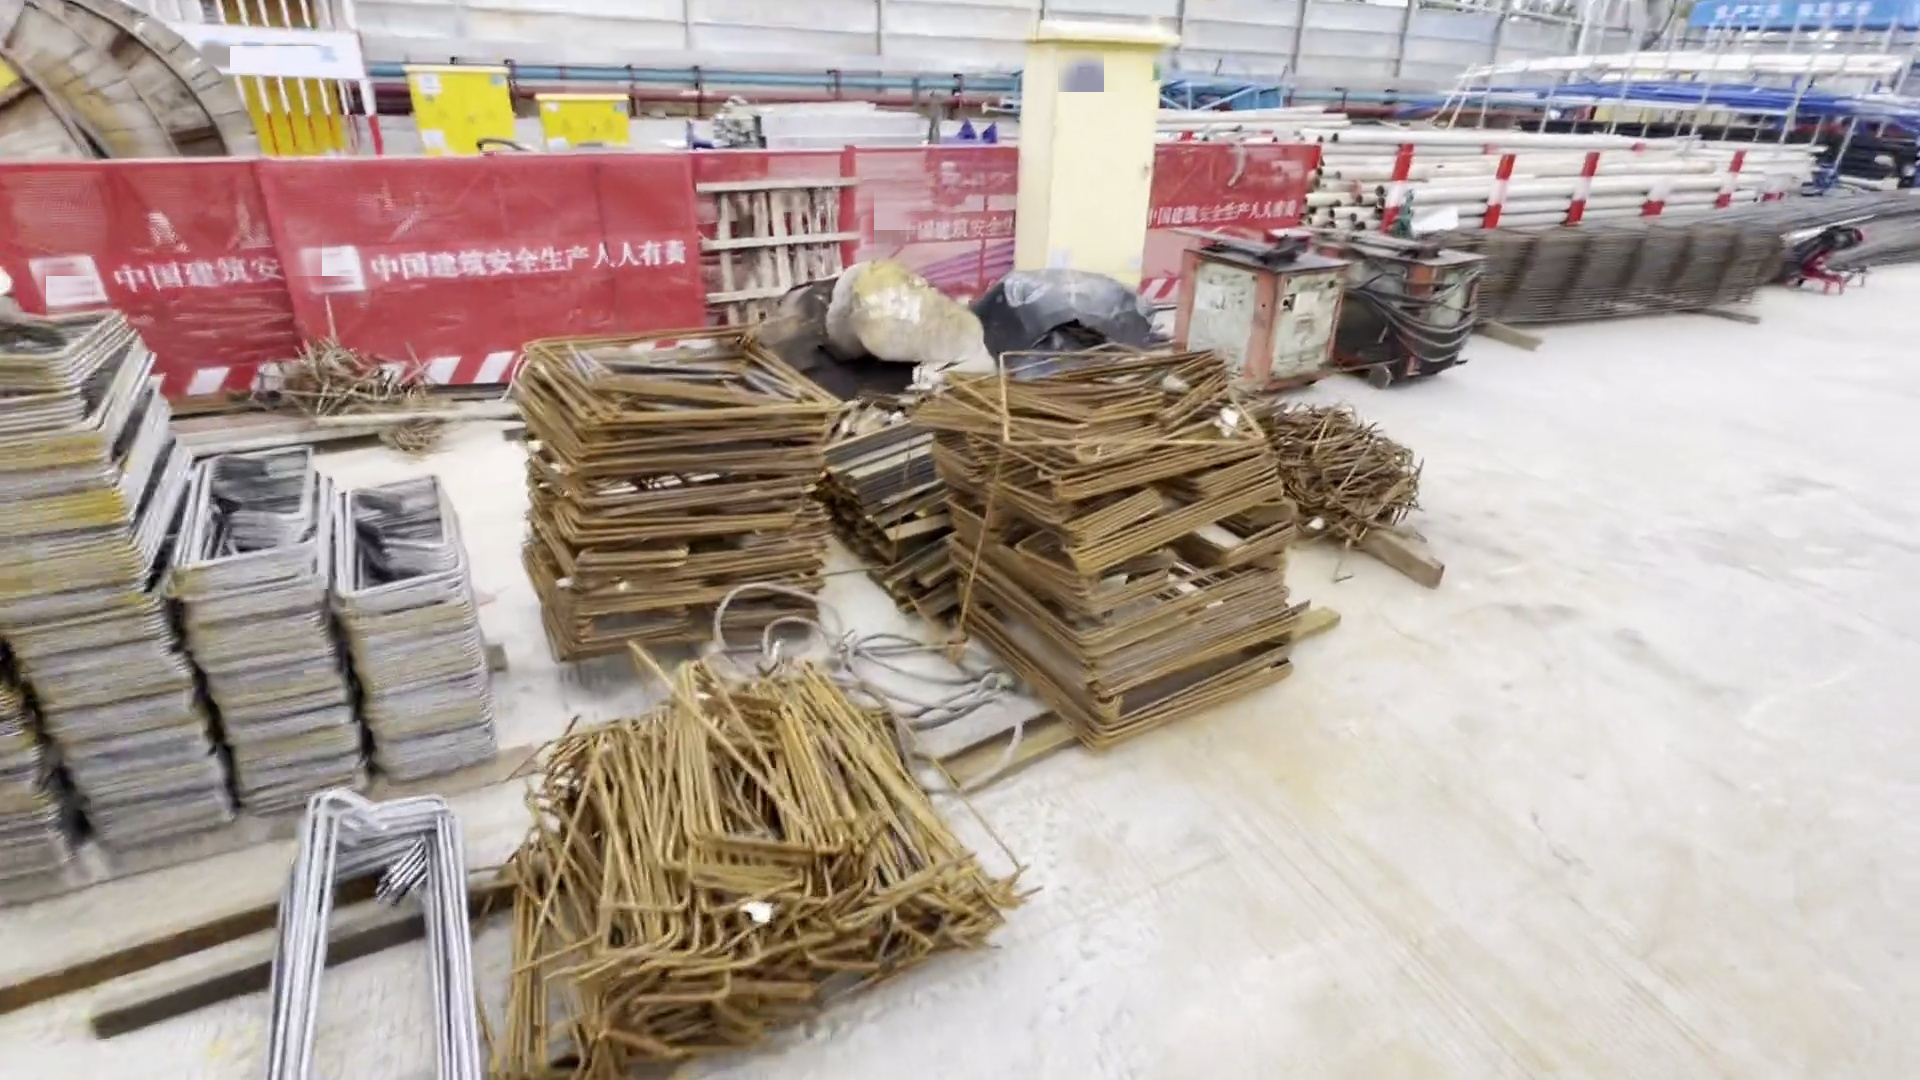cutter: (1787, 216, 1873, 314)
ebox: (1001, 24, 1163, 302), (400, 55, 520, 156), (531, 88, 645, 145)
fence: (1, 146, 1011, 400), (1143, 146, 1316, 249)
rebar: (1705, 189, 1920, 273)
